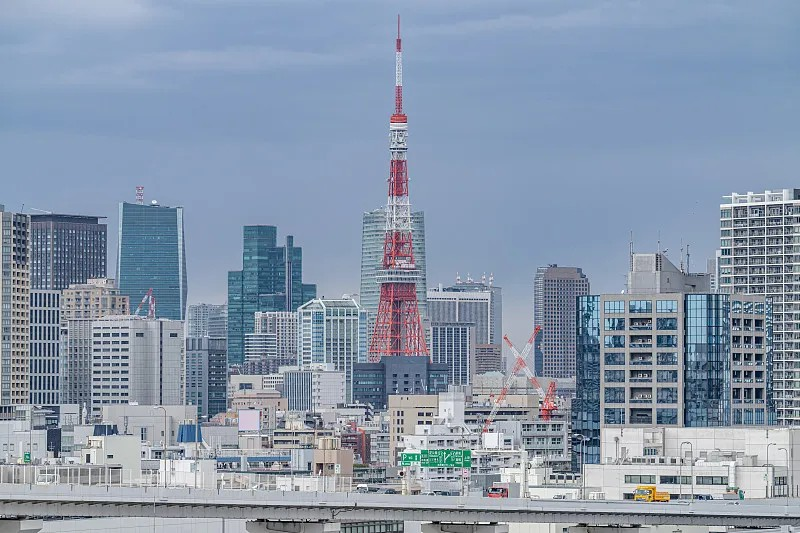Tokyo: (368, 12, 434, 364)
